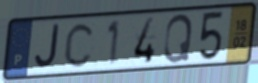1: (106, 18, 121, 67)
4: (131, 16, 157, 66)
5: (196, 9, 227, 62)
C: (62, 21, 97, 70)
J: (33, 22, 61, 71)
Q: (161, 12, 194, 65)
